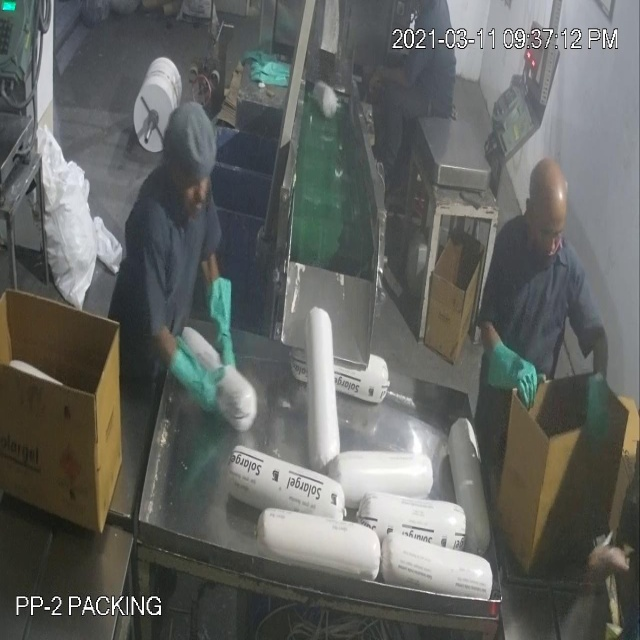Guantes: (480, 318, 545, 426), (205, 263, 240, 383)
Sin_guantes: (366, 53, 417, 108)
